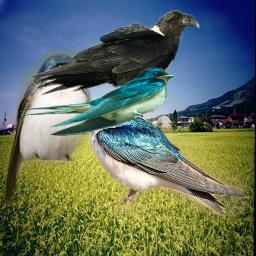Crow: (30, 9, 202, 115)
Swallow: (76, 95, 249, 217), (4, 48, 94, 206), (20, 67, 175, 137)
